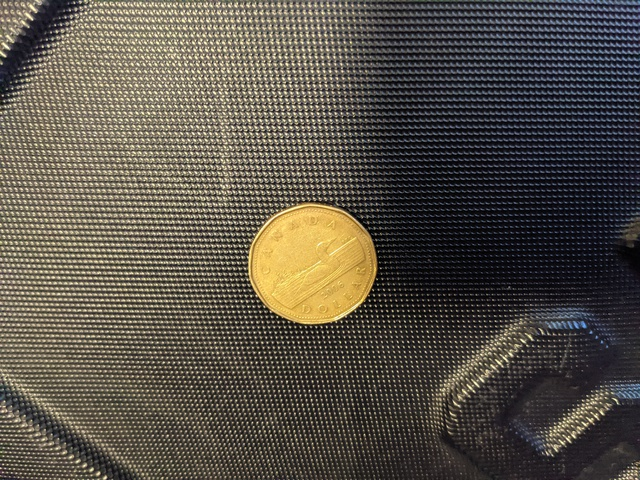loonie: (240, 198, 381, 330)
